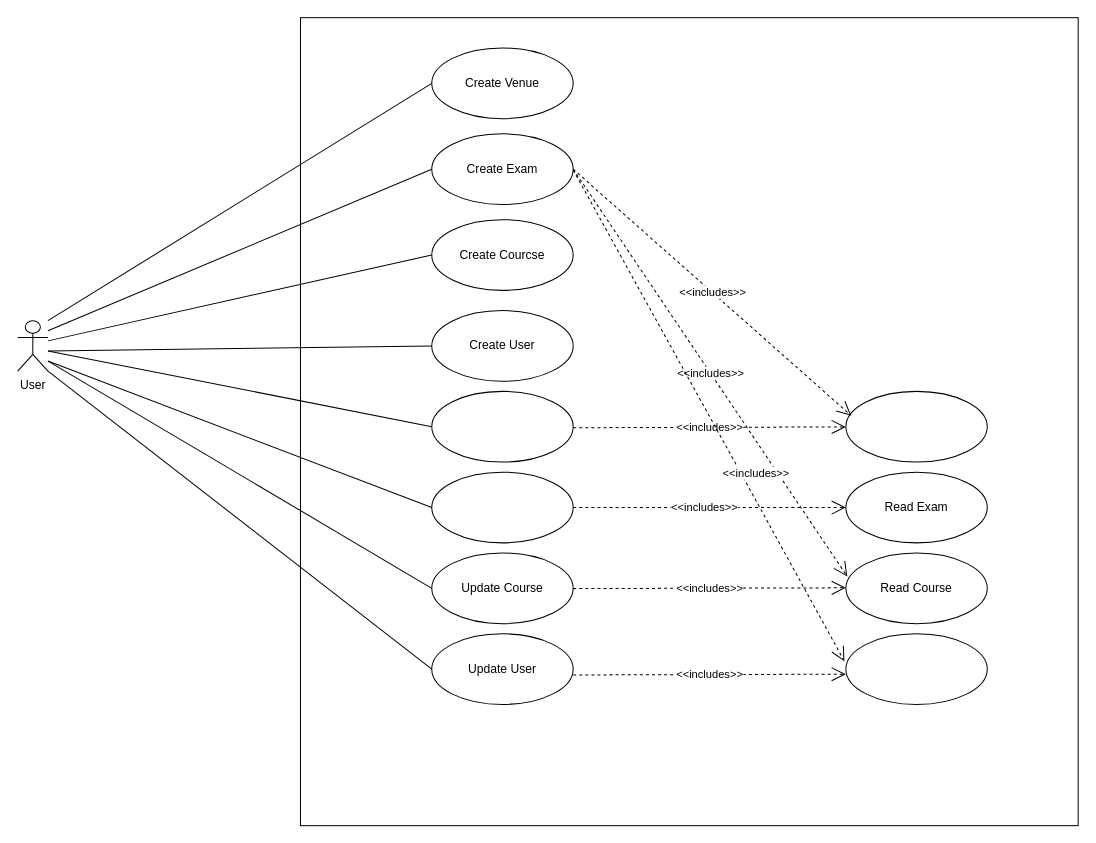
The diagram is 1096 pixels wide and 843 high, and some of its shapes have lost their labels. Here are the shapes that lost their labels. From the top down, the centre of each, then its label:
At [502,426]: "Update Venue".
At [916,426]: "Read Venue".
At [502,507]: "Update Exam".
At [916,668]: "Read User".
